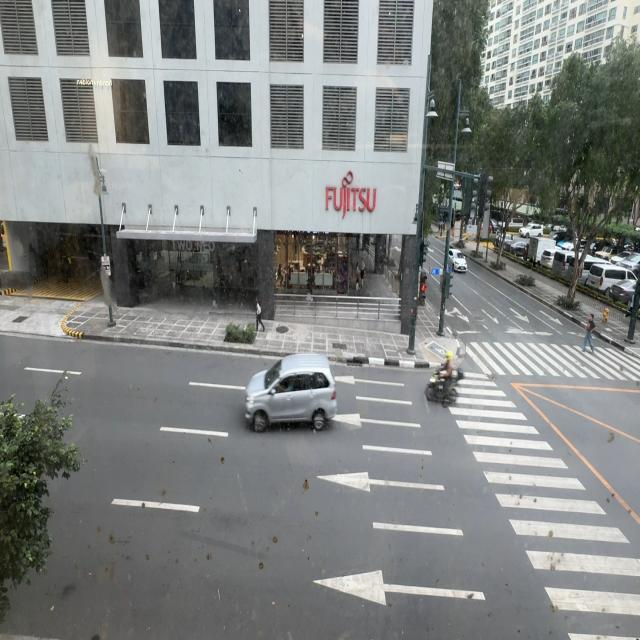crossing: (582, 313, 597, 353)
pedestrain: (255, 298, 266, 332)
